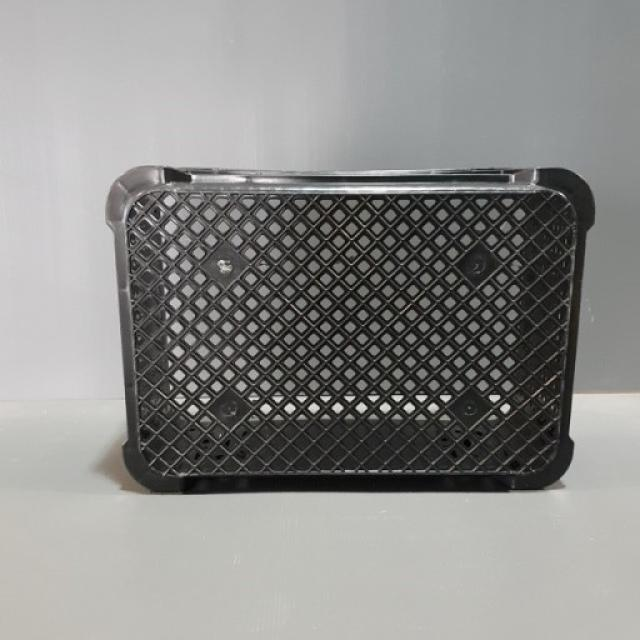basket: (106, 166, 597, 494)
